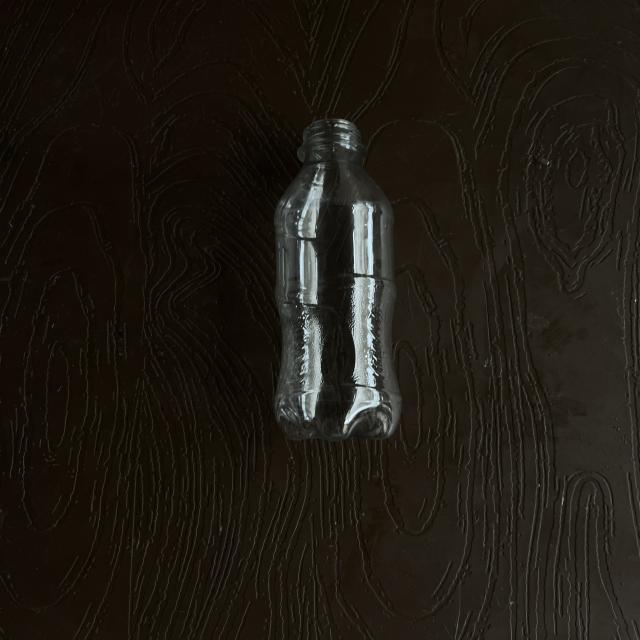PET_ClearBottle: (267, 121, 405, 437)
